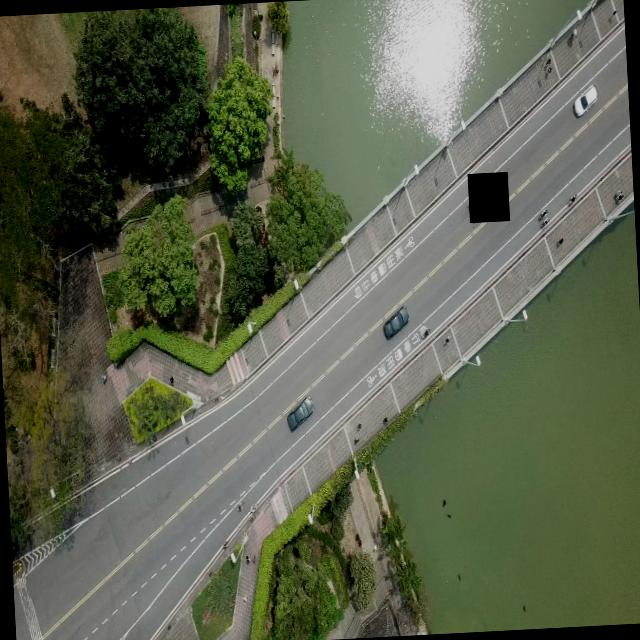bike: (538, 208, 550, 225), (567, 192, 575, 204)
car: (286, 396, 315, 430), (382, 304, 409, 340), (572, 84, 598, 118)
